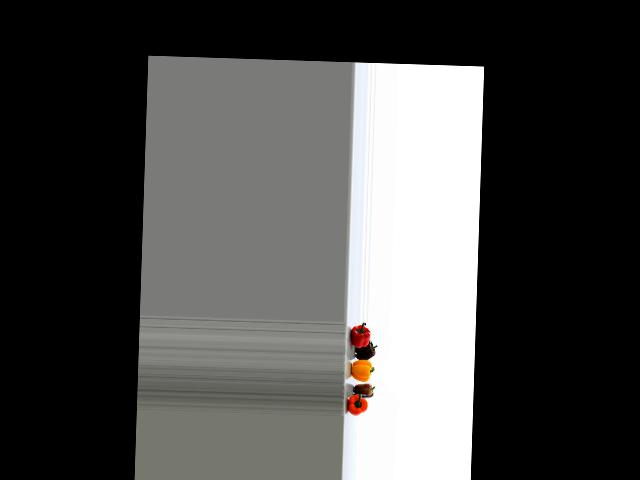bell_pepper: (344, 393, 374, 416)
